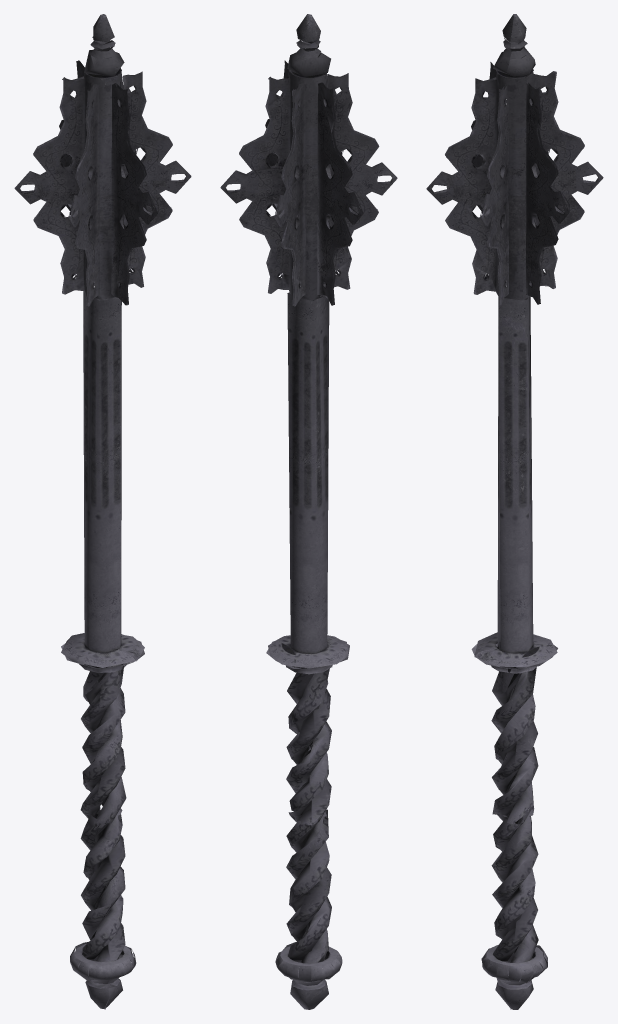
File: ph_mace.gltf
3 views of the same model, side by side, from view 1: azimuth 30°, elevation 25°; view 2: azimuth 150°, elevation 25°; view 3: azimuth 270°, elevation 25° (orthographic).
Parts seen in each view (by area): view 1: ph_mace; view 2: ph_mace; view 3: ph_mace.
Boxes of the visible parts, x1,y1,x2,y2 form: ph_mace: (14,14,191,1009); ph_mace: (220,14,397,1009); ph_mace: (426,14,603,1009).
Bounding box in the file's own units: 0.095 × 0.6294 × 0.1017.
1 material, 1 textured.
